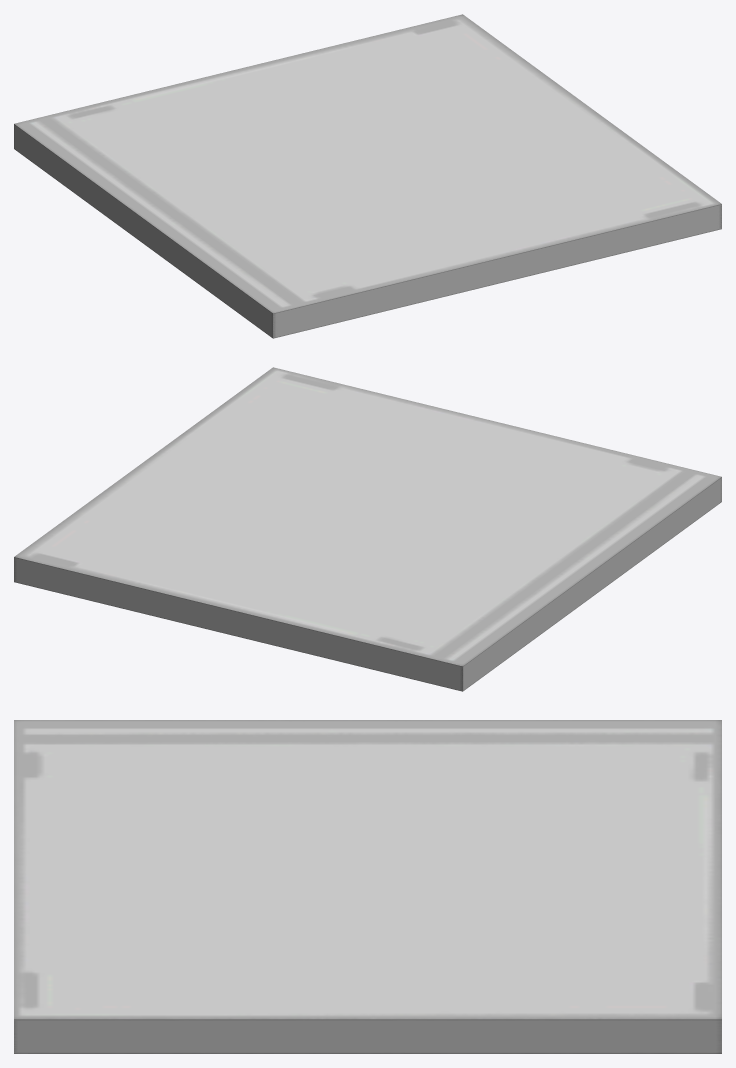
3 renders of one model, top to bottom at view 1: azimuth 30°, elevation 25°; view 2: azimuth 150°, elevation 25°; view 3: azimuth 270°, elevation 25°, orthographic. The views are drawn at different scales.
Parts seen in each view (by area): view 1: Cube.039; view 2: Cube.039; view 3: Cube.039.
Part boxes in pixels (bbox=[...]): Cube.039: bbox=[14, 14, 721, 338]; Cube.039: bbox=[14, 367, 721, 691]; Cube.039: bbox=[14, 720, 721, 1053].
Size of the model in its own units: 45.24 by 2.43 by 45.24.
2 materials, 2 textured.
